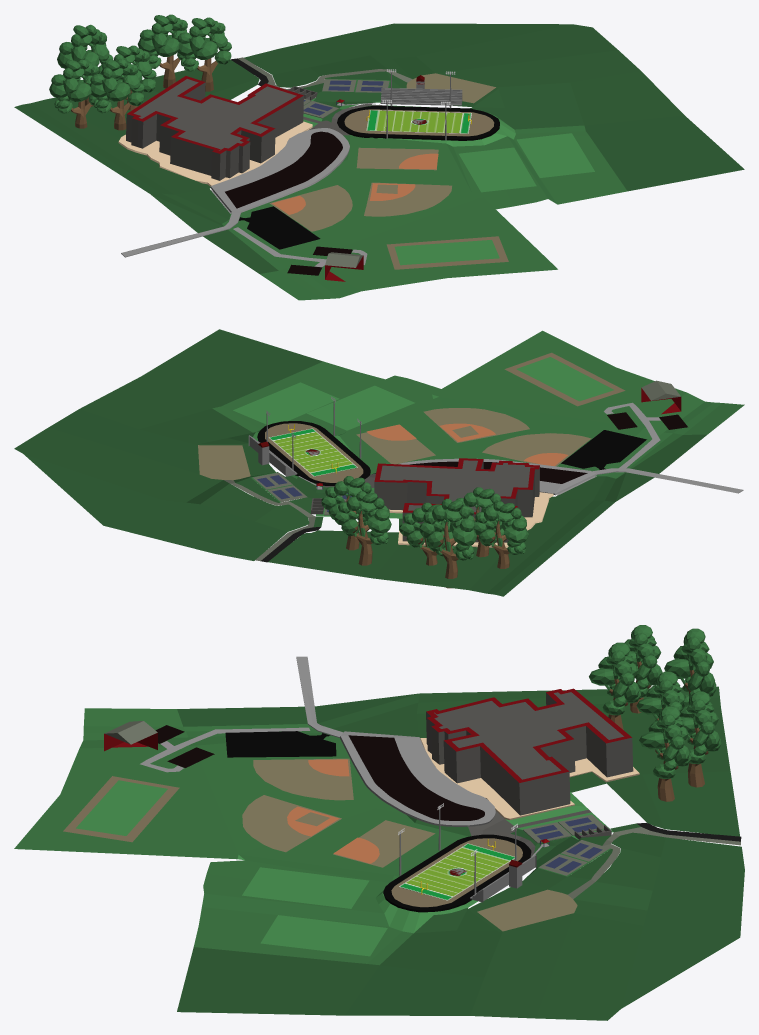
The model's file is broadneck31.glb.
The picture shows the model from 3 angles, top to bottom: view 1: azimuth 30°, elevation 25°; view 2: azimuth 150°, elevation 25°; view 3: azimuth 270°, elevation 25°; orthographic projection. The views are drawn at different scales.
Parts seen in each view (by area): view 1: Cylinder.001, Oak.005, Oak, Oak.004, Oak.001, Oak.003, Oak.002; view 2: Cylinder.001, Oak.003, Oak.001, Oak.004, Oak, Oak.002, Oak.005; view 3: Cylinder.001, Oak, Oak.005, Oak.001, Oak.003, Oak.004, Oak.002.
Part boxes in pixels (x1,y1,x2,y2): Cylinder.001: [14, 23, 744, 300]; Oak.005: [89, 59, 144, 130]; Oak: [177, 17, 231, 91]; Oak.004: [49, 59, 99, 128]; Oak.001: [137, 14, 187, 88]; Oak.003: [57, 24, 113, 106]; Oak.002: [100, 45, 156, 110]; Cylinder.001: [14, 329, 744, 596]; Oak.003: [419, 498, 476, 588]; Oak.001: [334, 491, 391, 565]; Oak.004: [474, 501, 528, 568]; Oak: [321, 476, 374, 550]; Oak.002: [399, 502, 453, 565]; Oak.005: [456, 487, 504, 557]; Cylinder.001: [14, 656, 744, 1020]; Oak: [639, 706, 691, 801]; Oak.005: [589, 642, 640, 729]; Oak.001: [679, 691, 721, 787]; Oak.003: [664, 628, 716, 708]; Oak.004: [624, 625, 662, 713]; Oak.002: [636, 671, 684, 753].
Bounding box in the file's own units: 1.13 × 0.1738 × 0.9884.
24 materials, 2 textured.
